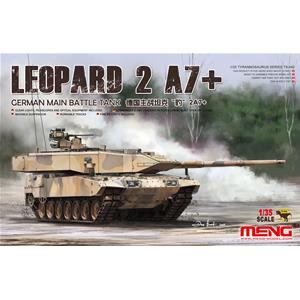Battle Tank: (18, 137, 245, 223)
